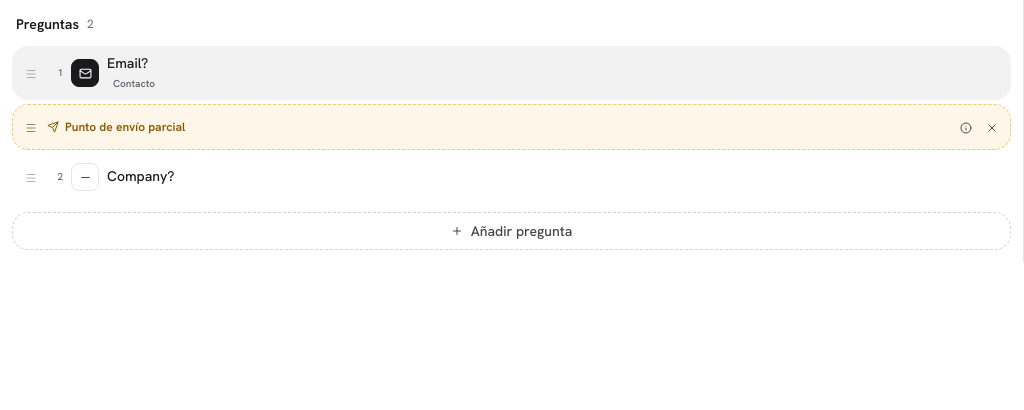
the partial submit point with spam protection › says partials are saved but not sent while protection holds them
Step 1. Click the button with test id "partial-point-info" → (966, 127), box [956, 111, 976, 143]
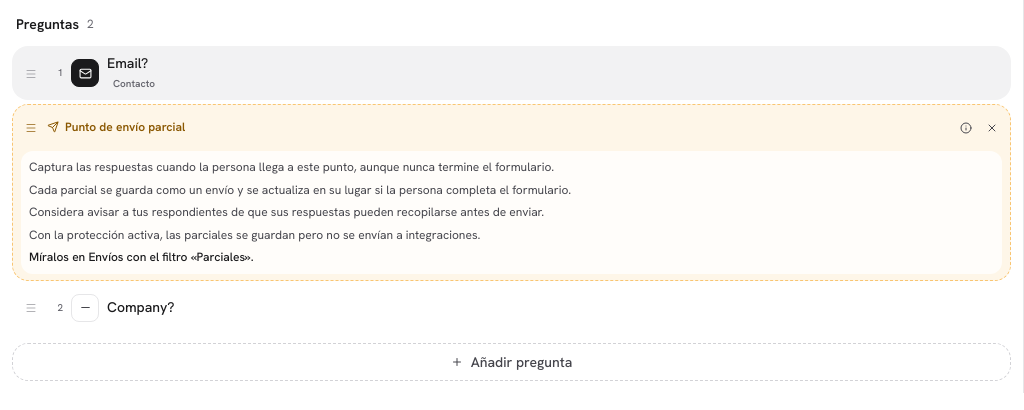
Expected: the text with test id "partial-point-captcha" shows "Con la protección activa, las parciales se guardan pero no se envían a integraciones.", [29, 226, 480, 242]
Expected: the text "Captura las respuestas cuando la persona llega a este punto, aunque nunca termine el formulario." is shown, [29, 159, 554, 175]
